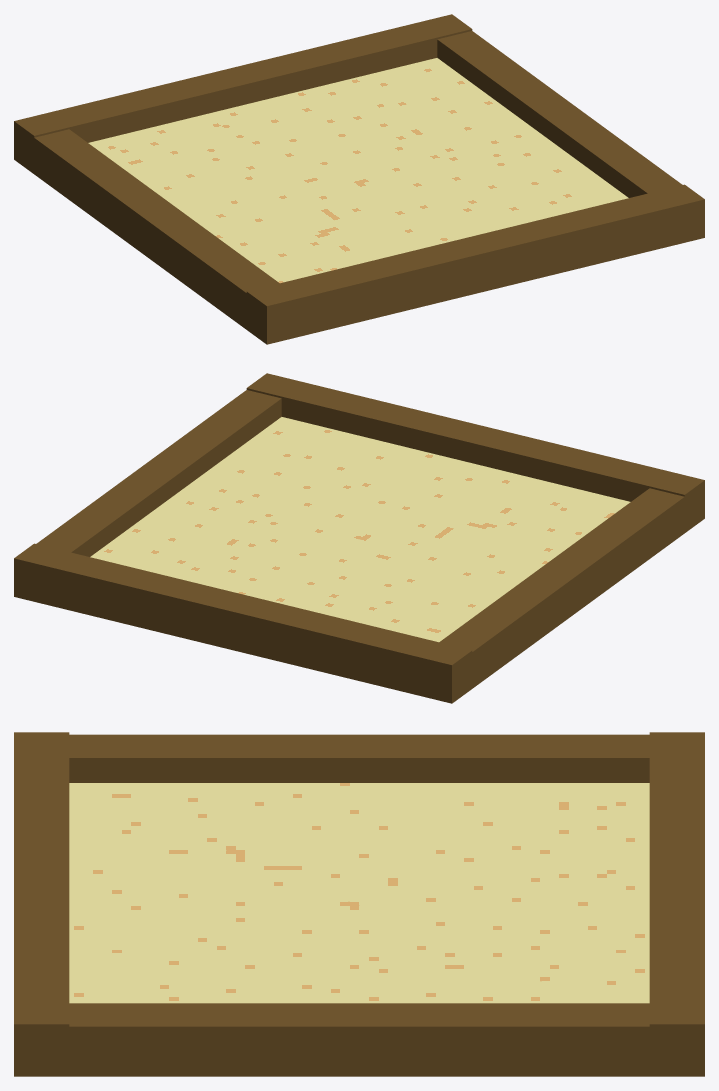
The model's file is sandbox.gltf.
The picture shows the model from 3 angles, top to bottom: view 1: azimuth 30°, elevation 25°; view 2: azimuth 150°, elevation 25°; view 3: azimuth 270°, elevation 25°; orthographic projection. The views are drawn at different scales.
Parts seen in each view (by area): view 1: 9e4f82f1-ffbe-f581-0325-eee4af293d87, 086b2b92-aaff-dcec-d005-7fc734dcd1de, b250280f-9ce3-f99f-ea41-7a91caf4b54c, 63540136-8f82-5cac-274a-c626cea725d4, 4d23239b-65f2-3167-3d58-63064fd1d763; view 2: 9e4f82f1-ffbe-f581-0325-eee4af293d87, b250280f-9ce3-f99f-ea41-7a91caf4b54c, 086b2b92-aaff-dcec-d005-7fc734dcd1de, 63540136-8f82-5cac-274a-c626cea725d4, 4d23239b-65f2-3167-3d58-63064fd1d763; view 3: 9e4f82f1-ffbe-f581-0325-eee4af293d87, 4d23239b-65f2-3167-3d58-63064fd1d763, 63540136-8f82-5cac-274a-c626cea725d4, b250280f-9ce3-f99f-ea41-7a91caf4b54c, 086b2b92-aaff-dcec-d005-7fc734dcd1de.
Part boxes in pixels (x1,y1,x2,y2): 9e4f82f1-ffbe-f581-0325-eee4af293d87: (88, 58, 628, 283); 086b2b92-aaff-dcec-d005-7fc734dcd1de: (246, 184, 704, 344); b250280f-9ce3-f99f-ea41-7a91caf4b54c: (14, 14, 472, 173); 63540136-8f82-5cac-274a-c626cea725d4: (14, 123, 301, 343); 4d23239b-65f2-3167-3d58-63064fd1d763: (437, 31, 704, 241); 9e4f82f1-ffbe-f581-0325-eee4af293d87: (90, 417, 630, 642); b250280f-9ce3-f99f-ea41-7a91caf4b54c: (14, 543, 472, 703); 086b2b92-aaff-dcec-d005-7fc734dcd1de: (246, 373, 704, 532); 63540136-8f82-5cac-274a-c626cea725d4: (418, 482, 704, 702); 4d23239b-65f2-3167-3d58-63064fd1d763: (14, 390, 281, 604); 9e4f82f1-ffbe-f581-0325-eee4af293d87: (69, 783, 649, 1003); 4d23239b-65f2-3167-3d58-63064fd1d763: (14, 1003, 704, 1076); 63540136-8f82-5cac-274a-c626cea725d4: (69, 734, 649, 782); b250280f-9ce3-f99f-ea41-7a91caf4b54c: (649, 732, 704, 1076); 086b2b92-aaff-dcec-d005-7fc734dcd1de: (14, 732, 69, 1076).
Size of the model in its own units: 1.56 by 0.1312 by 1.56.
2 materials, 2 textured.
